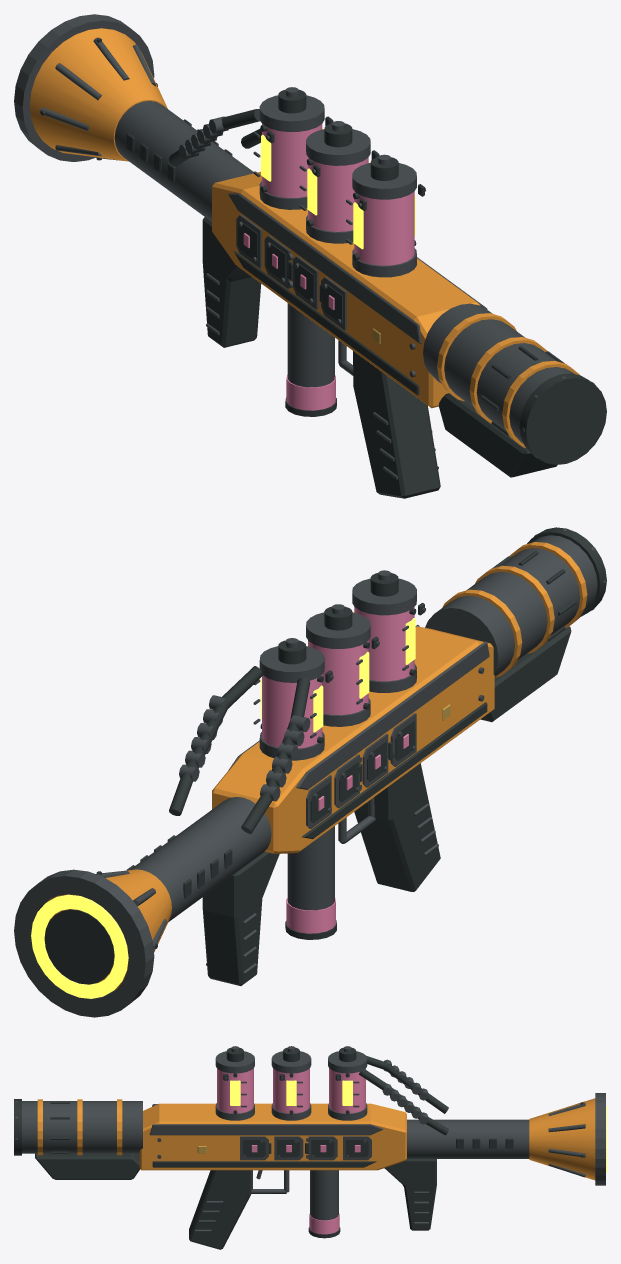
The model's file is sticky_4.glb.
The picture shows the model from 3 angles, top to bottom: view 1: azimuth 30°, elevation 25°; view 2: azimuth 150°, elevation 25°; view 3: azimuth 270°, elevation 25°; orthographic projection. The views are drawn at different scales.
Visible parts, largest first — view 1: Weapon_sticky_v1; view 2: Weapon_sticky_v1; view 3: Weapon_sticky_v1.
Boxes of the visible parts, x1,y1,x2,y2 form: Weapon_sticky_v1: (14,14,606,498); Weapon_sticky_v1: (14,527,606,1017); Weapon_sticky_v1: (14,1046,606,1249).
Size of the model in its own units: 0.14 by 0.3291 by 0.8975.
